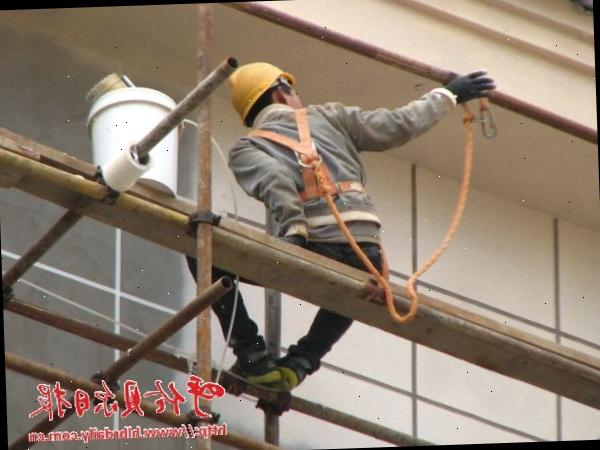helmet: (222, 61, 298, 107)
no_wear: (263, 107, 362, 262)
